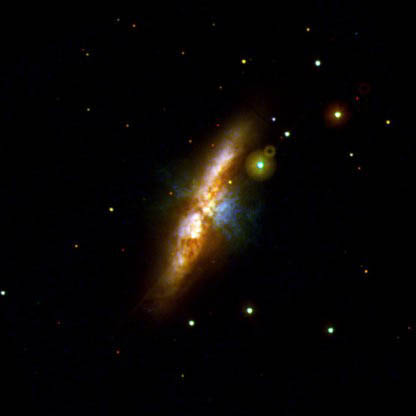Messier 82: (131, 101, 293, 326)
